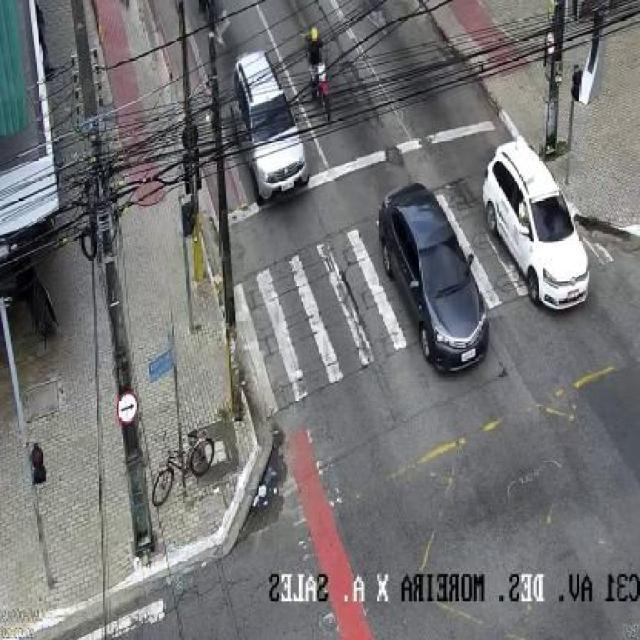Car: (379, 184, 486, 376), (482, 138, 588, 314), (230, 52, 308, 200)
Cycle: (302, 26, 337, 122)
